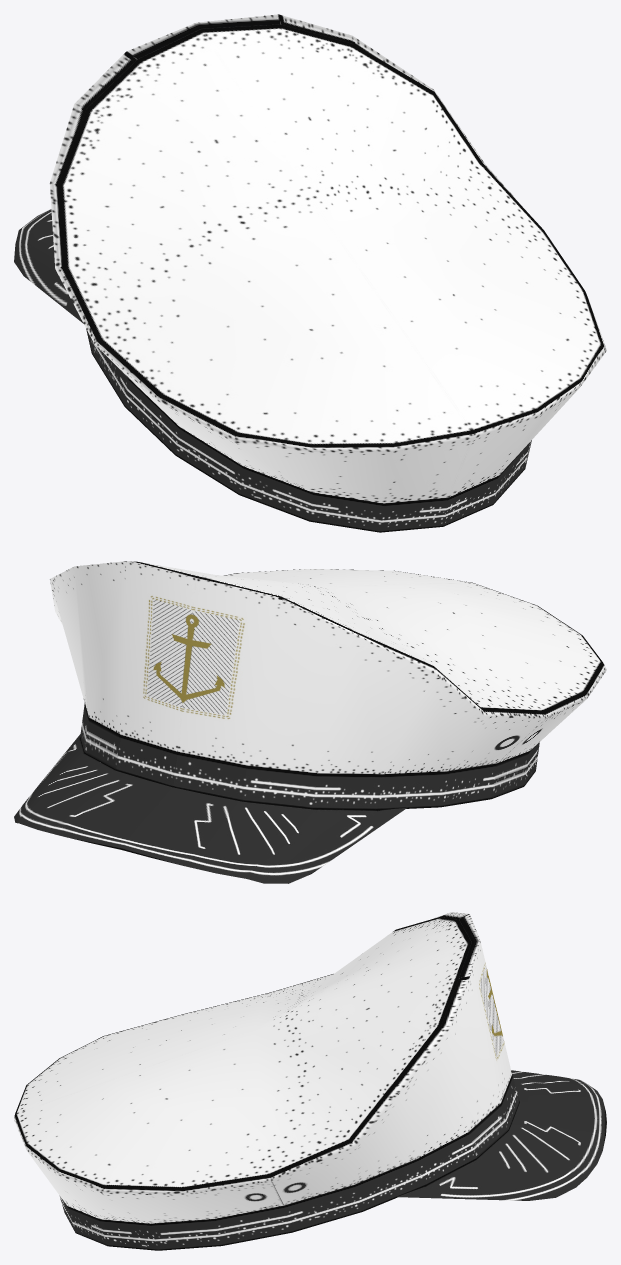
The model's file is captainsHat.gltf.
The picture shows the model from 3 angles, top to bottom: view 1: azimuth 30°, elevation 25°; view 2: azimuth 150°, elevation 25°; view 3: azimuth 270°, elevation 25°; orthographic projection. The views are drawn at different scales.
Visible parts, largest first — view 1: captainsHat; view 2: captainsHat; view 3: captainsHat.
Boxes of the visible parts, x1,y1,x2,y2 form: captainsHat: [14, 14, 606, 532]; captainsHat: [14, 561, 606, 883]; captainsHat: [14, 912, 606, 1250].
Bounding box in the file's own units: 1.25 × 0.8541 × 1.69.
Materials: 1 (1 with a texture image).
